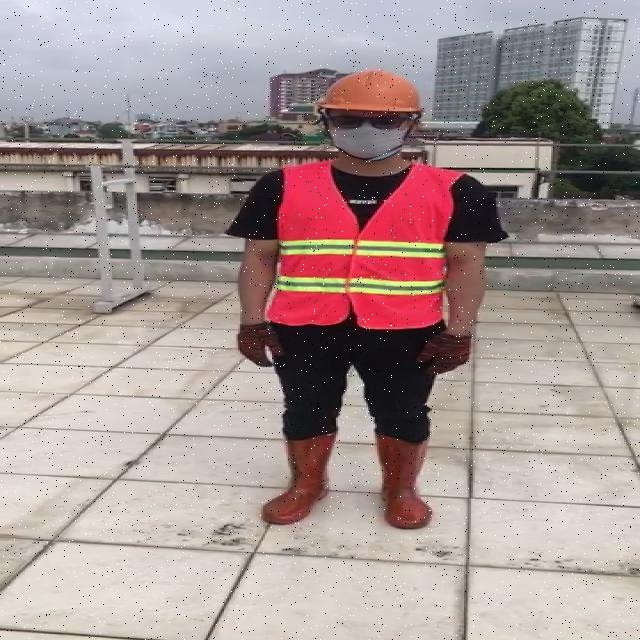Hard_hat: (312, 65, 426, 126)
Vest: (270, 158, 450, 330)
